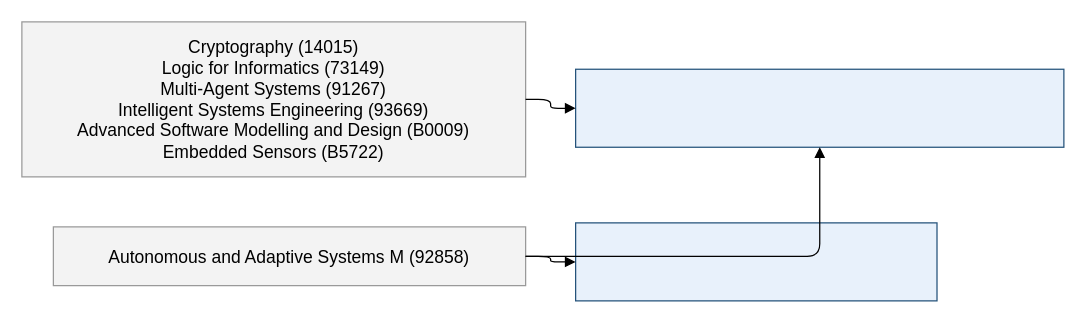
The diagram is 1086 pixels wide and 324 high, and some of its shapes have lost their labels. Each missing label, with the centre of its shape:
"Adaptive Systems and Multi-Agent Foundations 6 ECTS" goes at pixel 819 107.
"Reinforcement Learning Systems 3 ECTS" goes at pixel 755 261.
